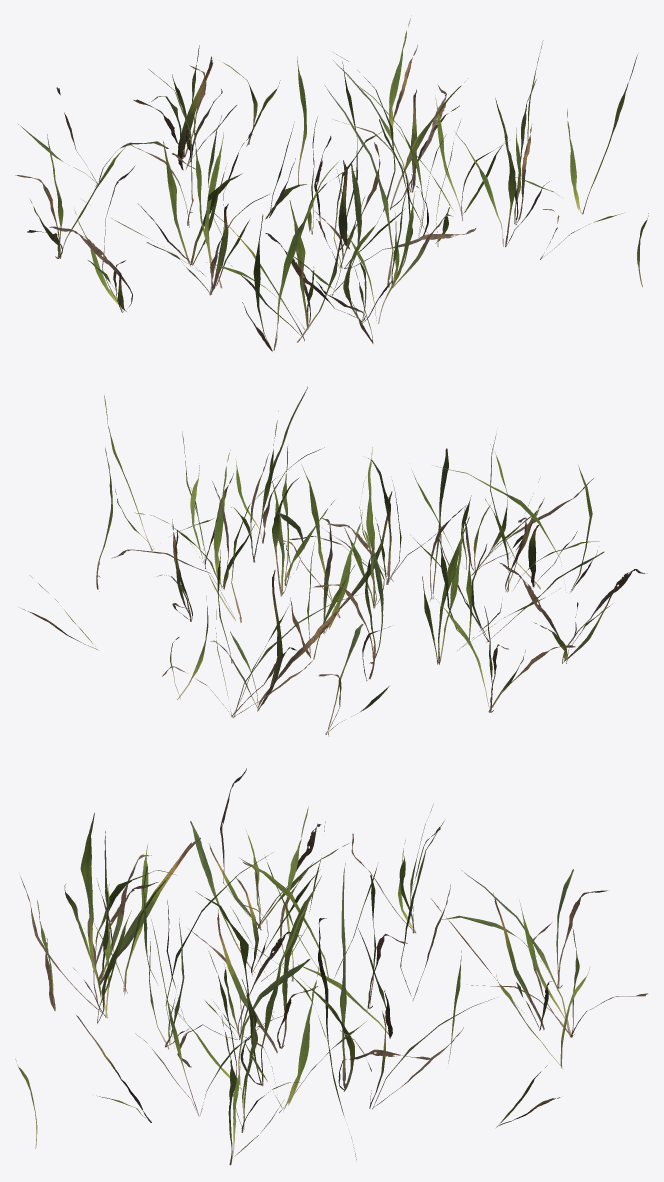
The model's file is Grass_04_Var2_LOD0.fbx.
The picture shows the model from 3 angles, top to bottom: view 1: azimuth 30°, elevation 25°; view 2: azimuth 150°, elevation 25°; view 3: azimuth 270°, elevation 25°; orthographic projection. The views are drawn at different scales.
Parts seen in each view (by area): view 1: Var2_LOD0; view 2: Var2_LOD0; view 3: Var2_LOD0.
Boxes of the visible parts, x1,y1,x2,y2 form: Var2_LOD0: (15, 15, 648, 351); Var2_LOD0: (22, 386, 647, 736); Var2_LOD0: (15, 768, 647, 1165).
Bounding box in the file's own units: 74.98 × 23.04 × 65.6.
